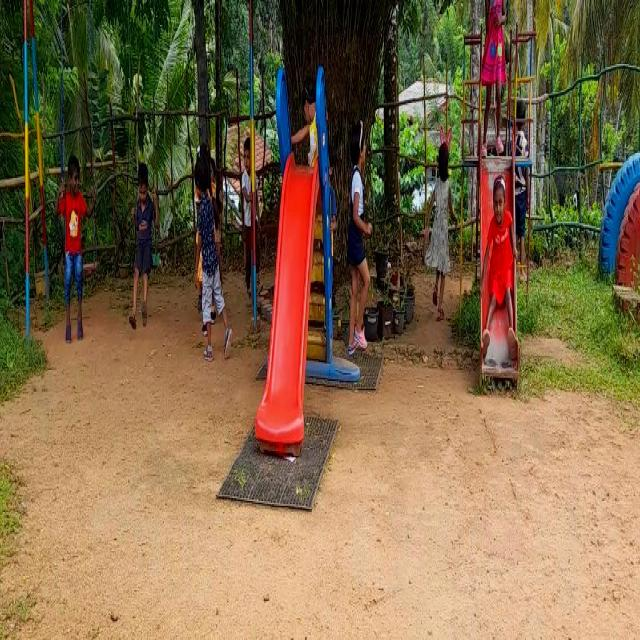child: (46, 116, 100, 362), (341, 113, 379, 368), (479, 168, 526, 355), (420, 126, 460, 330), (122, 147, 161, 349), (473, 0, 518, 159), (193, 154, 224, 368)
